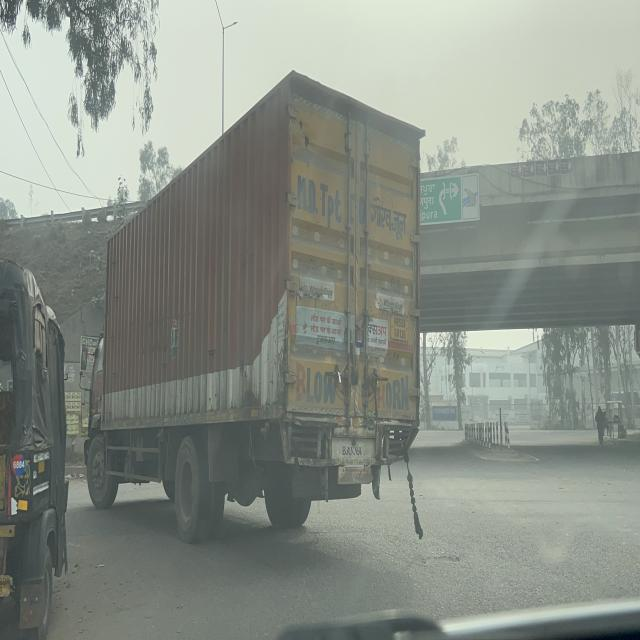GENERAL: (420, 173, 480, 224)
